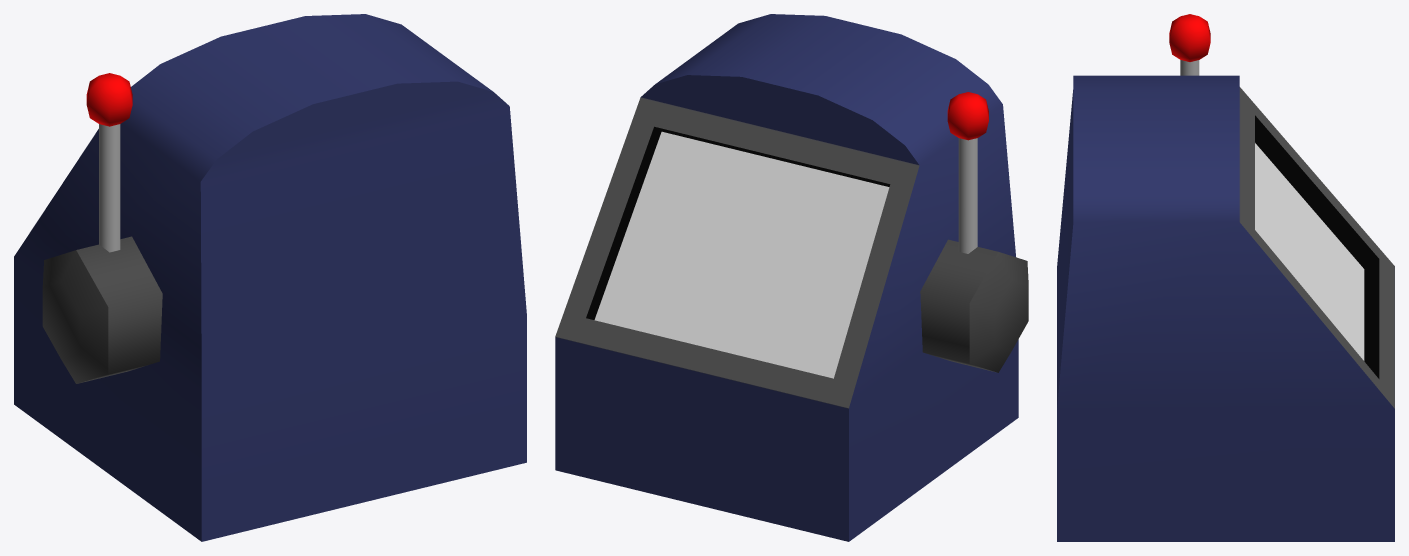
File: SlotMachine.fbx
3 views of the same model, side by side, from view 1: azimuth 30°, elevation 25°; view 2: azimuth 150°, elevation 25°; view 3: azimuth 270°, elevation 25° (orthographic). The views are drawn at different scales.
Parts seen in each view (by area): view 1: SlotMachine; view 2: SlotMachine; view 3: SlotMachine.
Part boxes in pixels (x1=…): SlotMachine: x1=14, y1=14, x2=526, y2=541; SlotMachine: x1=555, y1=14, x2=1028, y2=541; SlotMachine: x1=1057, y1=14, x2=1394, y2=541.
Bounding box in the file's own units: 72.24 × 73.02 × 59.99.
